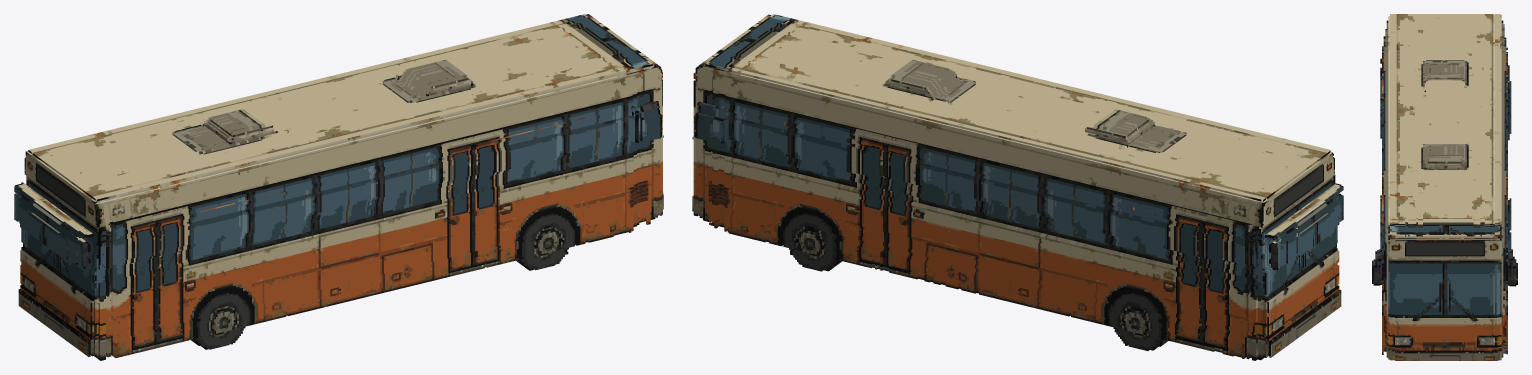
File: city_city_bus.glb
3 views of the same model, side by side, from view 1: azimuth 30°, elevation 25°; view 2: azimuth 150°, elevation 25°; view 3: azimuth 270°, elevation 25° (orthographic). The views are drawn at different scales.
Visible parts, largest first — view 1: city_city_bus; view 2: city_city_bus; view 3: city_city_bus.
Boxes of the visible parts, bbox=[...] form: city_city_bus: bbox=[14, 14, 663, 360]; city_city_bus: bbox=[692, 14, 1343, 360]; city_city_bus: bbox=[1372, 14, 1517, 360].
Size of the model in its own units: 10.5 by 3.22 by 2.78.
